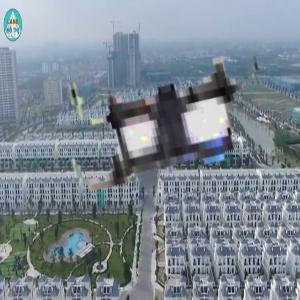drone: (60, 4, 286, 230)
